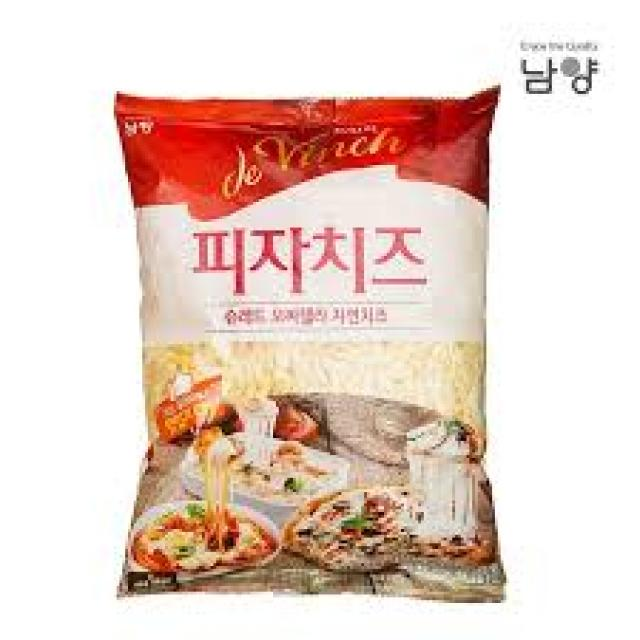Cheese: (109, 87, 496, 616)
